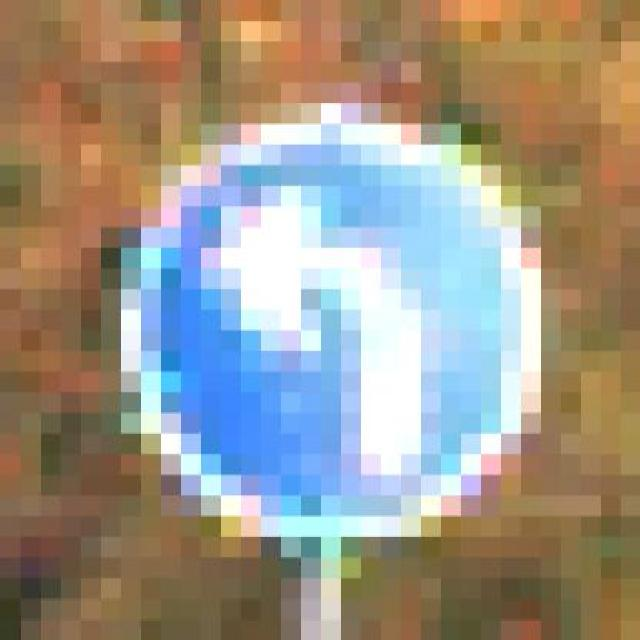Turn left ahead: (80, 83, 580, 537)
